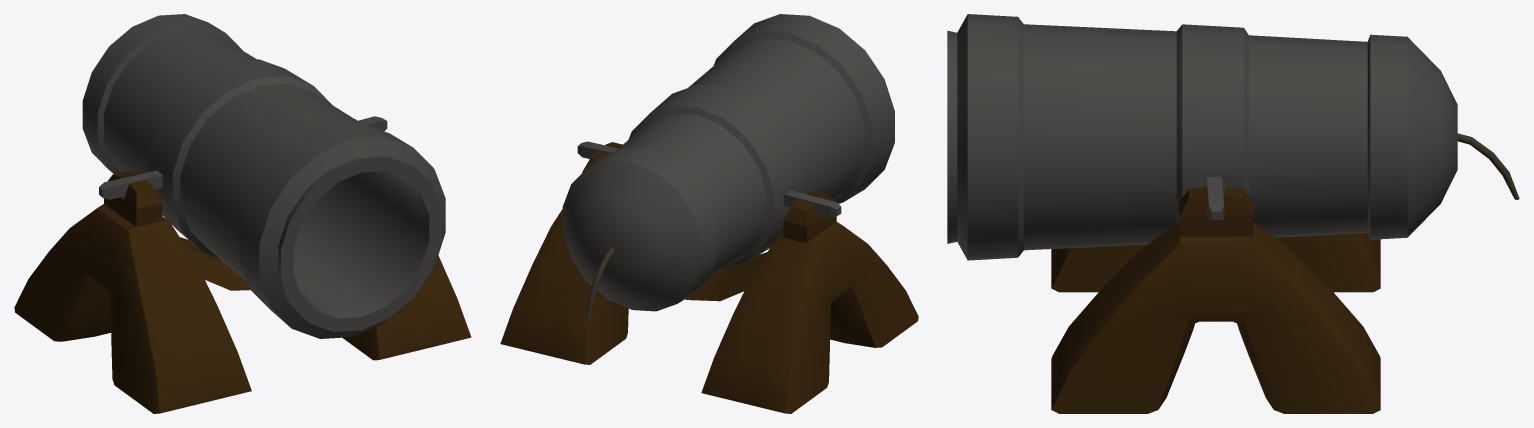
File: CannonObject.fbx
3 renders of one model, left to right at view 1: azimuth 30°, elevation 25°; view 2: azimuth 150°, elevation 25°; view 3: azimuth 270°, elevation 25°, orthographic. The views are drawn at different scales.
Parts seen in each view (by area): view 1: Cannon, CannonBase; view 2: Cannon, CannonBase, Cylinder050; view 3: Cannon, CannonBase, Cylinder050.
Part boxes in pixels (x1=…): Cannon: x1=82, y1=14, x2=445, y2=338; CannonBase: x1=14, y1=119, x2=471, y2=413; Cannon: x1=562, y1=14, x2=894, y2=311; CannonBase: x1=500, y1=142, x2=918, y2=413; Cylinder050: x1=586, y1=248, x2=614, y2=318; Cannon: x1=947, y1=14, x2=1457, y2=260; CannonBase: x1=1051, y1=186, x2=1380, y2=413; Cylinder050: x1=1457, y1=133, x2=1519, y2=199.
Size of the model in its own units: 52 by 71.65 by 41.6.
